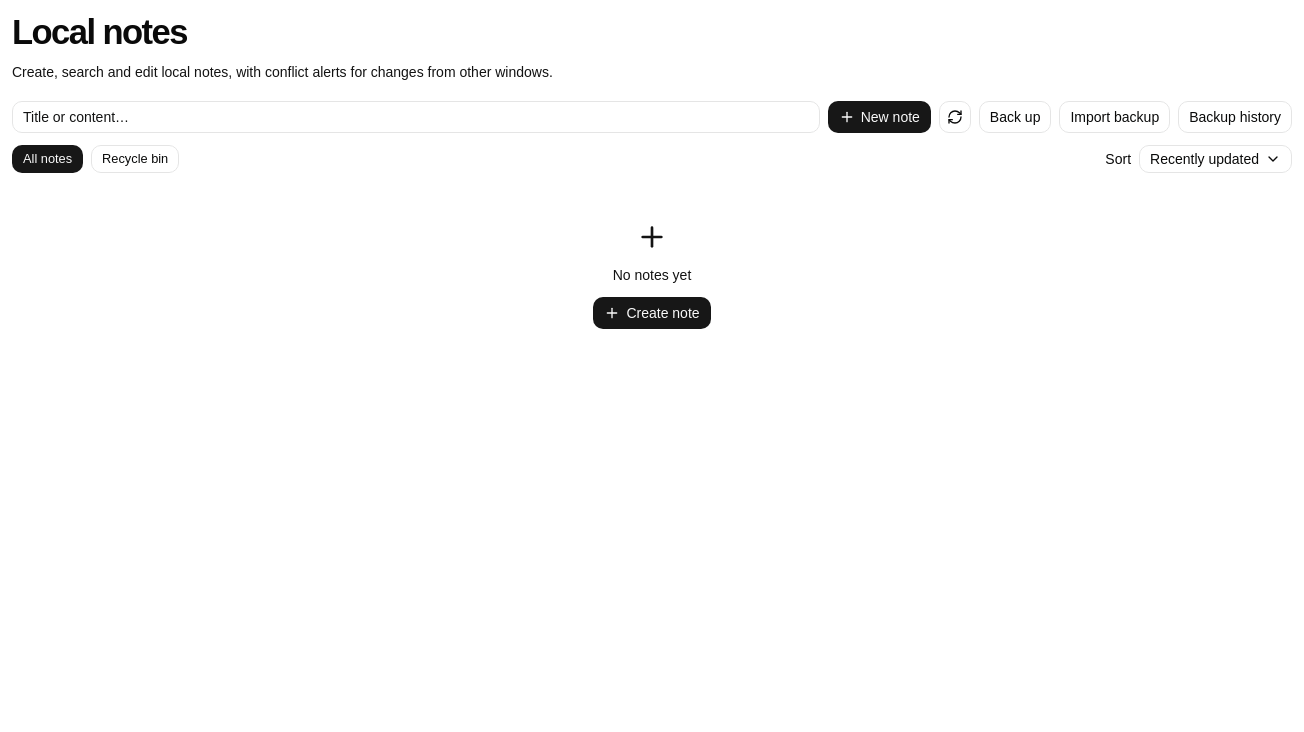
Test case: native note editor › shows a full-width empty state until a note is explicitly created and returns after discarding
Expected: the text "No notes yet" is shown, [613, 265, 691, 285]
Expected: the button "Back up" is shown, [979, 101, 1052, 133]
Click the button "Create note". click: (652, 313)
box: [593, 297, 711, 329]
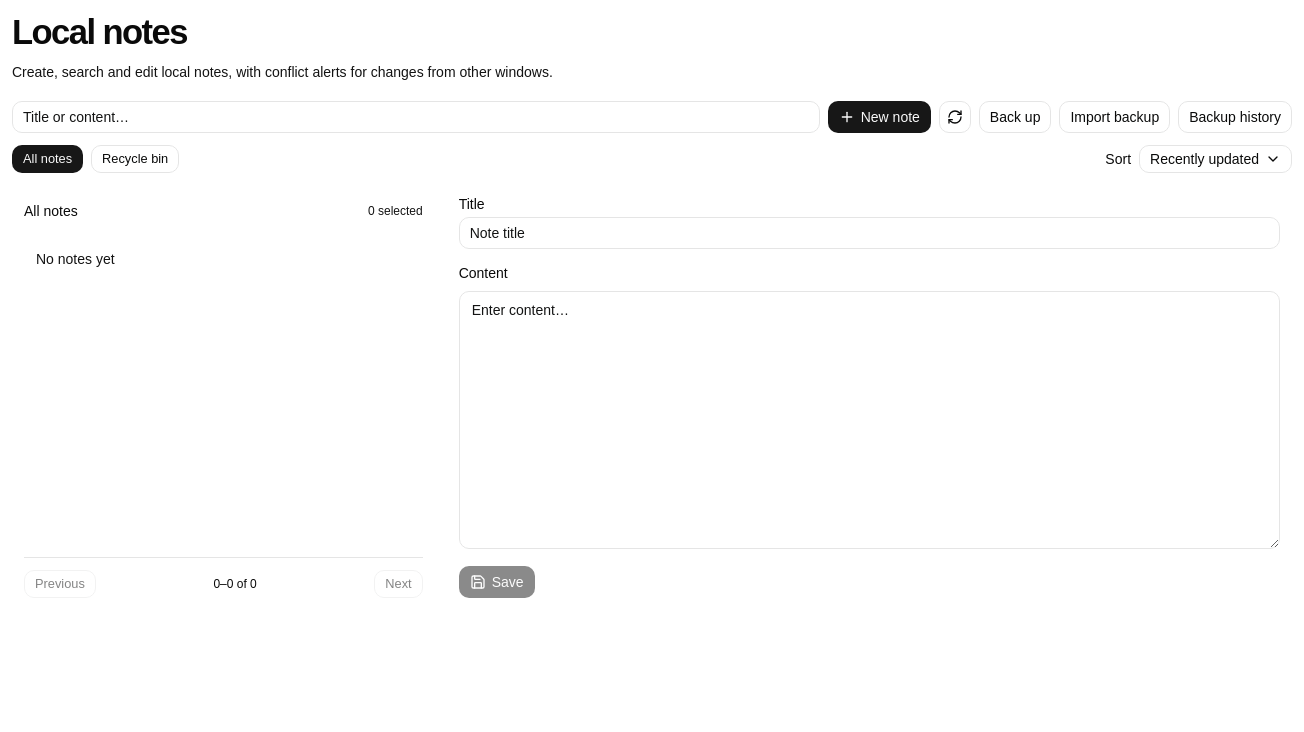
Result: the field labelled "Title" is enabled
Type "Unsaved first note" into the field labelled "Title". click: (869, 233)
box: [459, 217, 1280, 249]
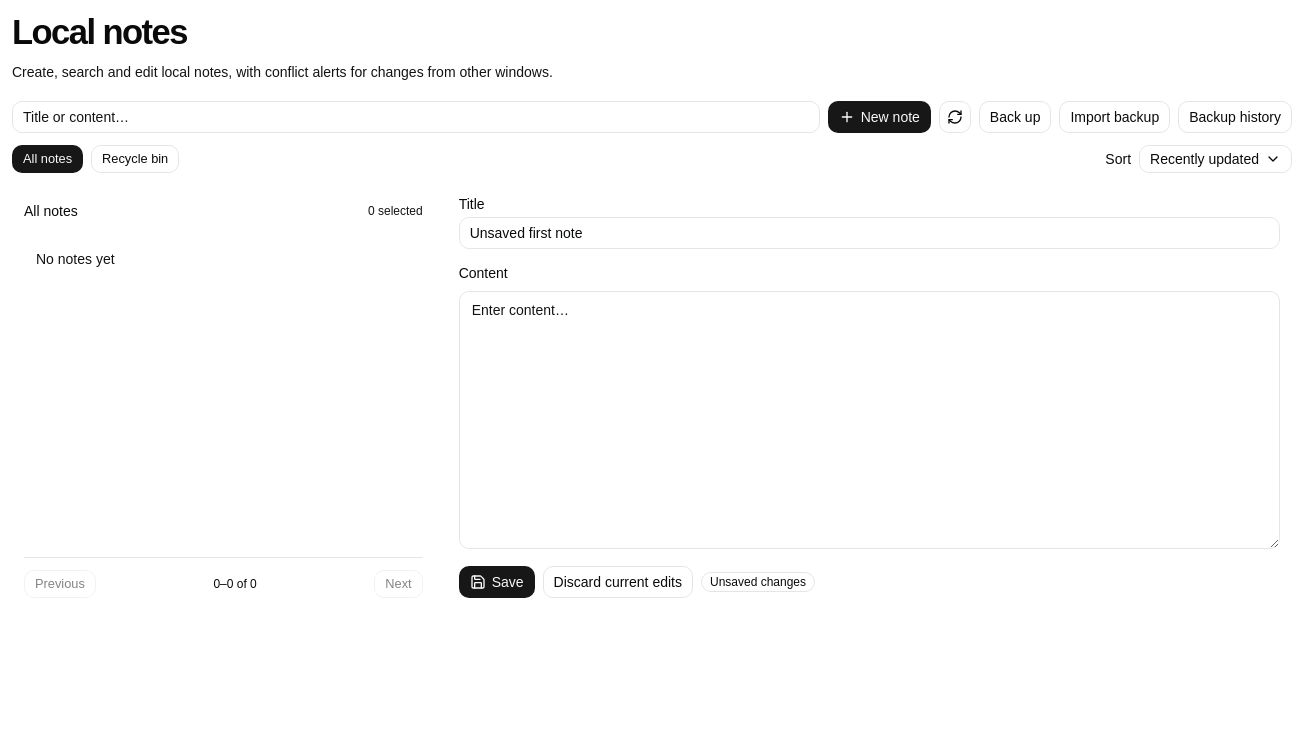
Click the button "Discard current edits". click: (618, 582)
box: [543, 566, 693, 598]
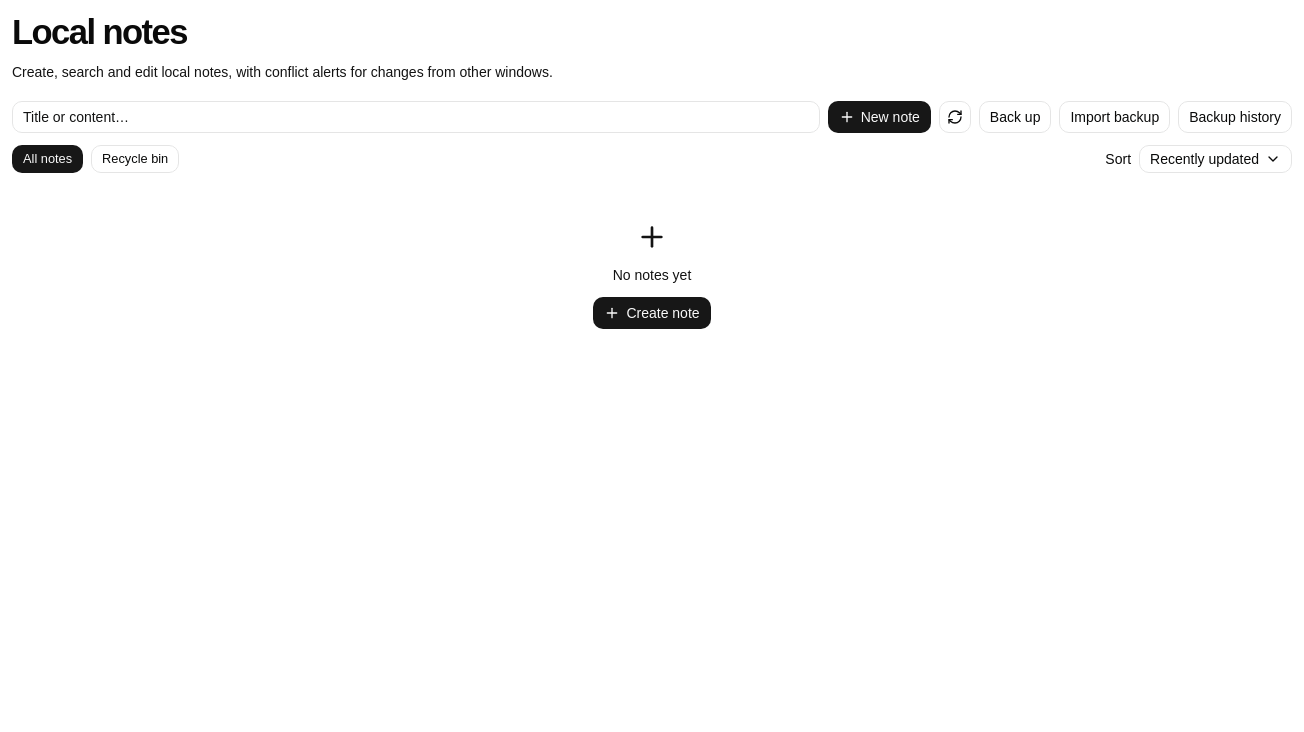
Result: the element with test id "note-editor" is gone
